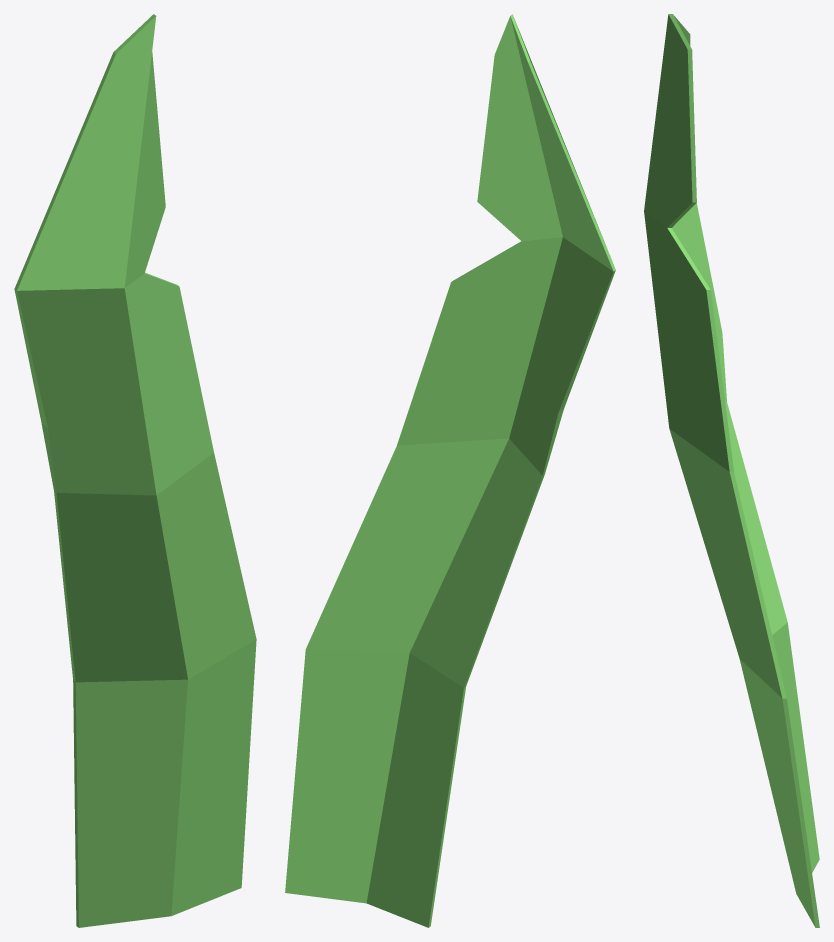
Rendered from Grass_2.fbx.
The picture shows the model from 3 angles, left to right: view 1: azimuth 30°, elevation 25°; view 2: azimuth 150°, elevation 25°; view 3: azimuth 270°, elevation 25°; orthographic projection. The views are drawn at different scales.
Visible parts, largest first — view 1: Grass_2; view 2: Grass_2; view 3: Grass_2.
Part boxes in pixels (x1,y1,x2,y2): Grass_2: (14,14,256,927); Grass_2: (285,14,615,927); Grass_2: (644,14,819,927).
Bounding box in the file's own units: 50.3 × 157 × 29.71.
